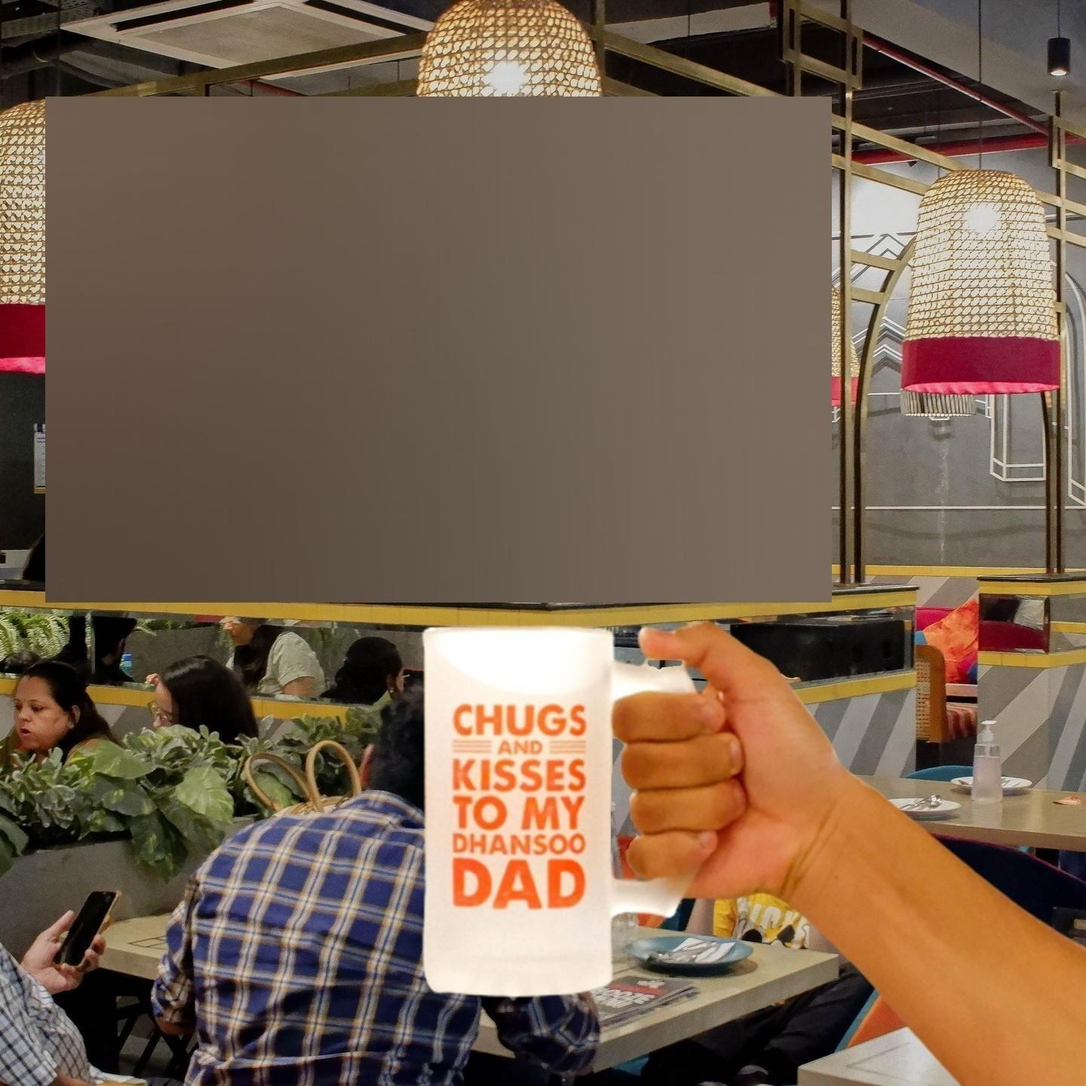glass-mug: (400, 609, 715, 1002)
